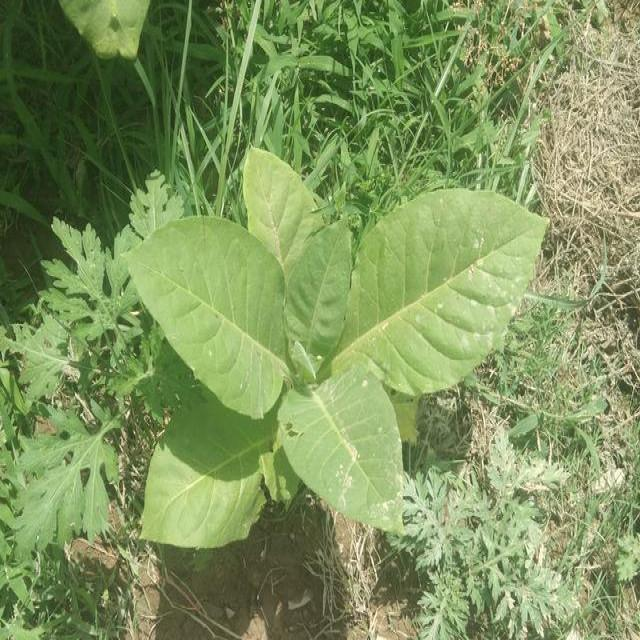crop: (121, 142, 559, 553)
